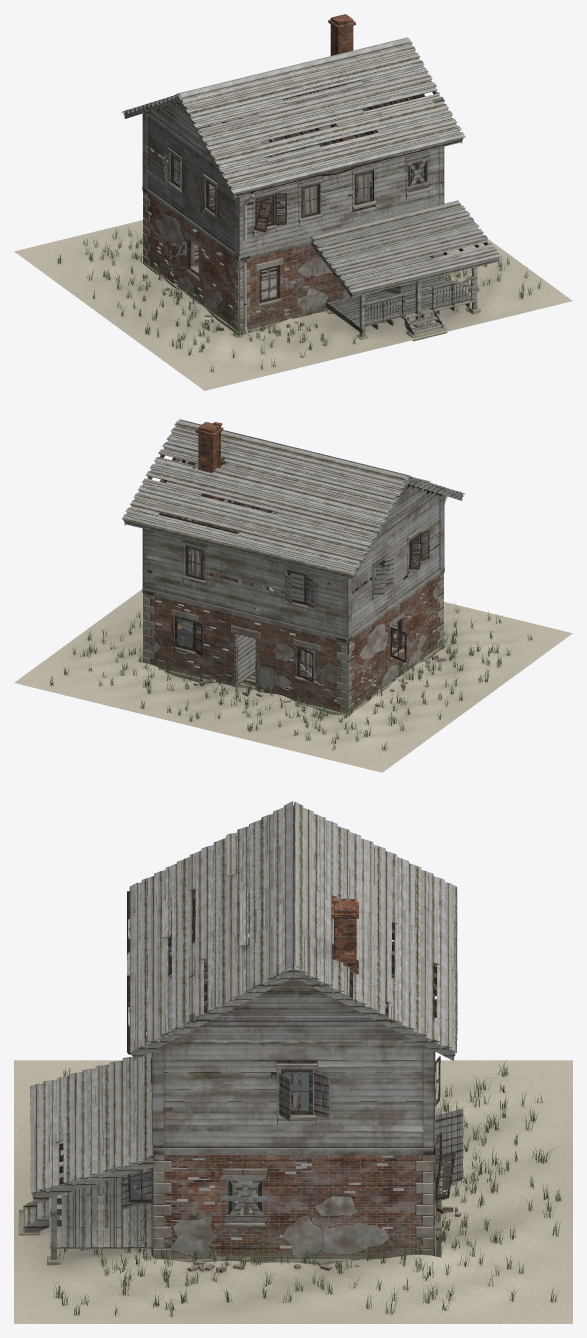
The model's file is CAB_3_ladrillo.glb.
3 renders of one model, top to bottom at view 1: azimuth 30°, elevation 25°; view 2: azimuth 150°, elevation 25°; view 3: azimuth 270°, elevation 25°, orthographic. The views are drawn at different scales.
Parts seen in each view (by area): view 1: CAB_3_ladrillo_Roof, CAB_3_ladrillo_Sand, CAB_3_ladrillo_WallsMain, CAB_3_ladrillo_WallsRest, CAB_3_ladrillo_Interior, CAB_3_ladrillo_Details, CAB_3_ladrillo_SkirtLoose; view 2: CAB_3_ladrillo_WallsRest, CAB_3_ladrillo_Sand, CAB_3_ladrillo_Roof, CAB_3_ladrillo_Interior, CAB_3_ladrillo_Details, CAB_3_ladrillo_SkirtLoose; view 3: CAB_3_ladrillo_Roof, CAB_3_ladrillo_WallsRest, CAB_3_ladrillo_Sand, CAB_3_ladrillo_Interior, CAB_3_ladrillo_Details, CAB_3_ladrillo_SkirtLoose, CAB_3_ladrillo_WallsMain.
Boxes of the visible parts, x1,y1,x2,y2 form: CAB_3_ladrillo_Roof: (121, 37, 500, 298); CAB_3_ladrillo_Sand: (14, 220, 572, 390); CAB_3_ladrillo_WallsMain: (142, 88, 480, 339); CAB_3_ladrillo_WallsRest: (142, 95, 477, 339); CAB_3_ladrillo_Interior: (143, 80, 479, 338); CAB_3_ladrillo_Details: (163, 14, 475, 341); CAB_3_ladrillo_SkirtLoose: (57, 227, 542, 371); CAB_3_ladrillo_WallsRest: (142, 462, 450, 715); CAB_3_ladrillo_Sand: (14, 589, 572, 772); CAB_3_ladrillo_Roof: (122, 419, 464, 580); CAB_3_ladrillo_Interior: (143, 457, 444, 713); CAB_3_ladrillo_Details: (170, 422, 447, 692); CAB_3_ladrillo_SkirtLoose: (47, 601, 532, 750); CAB_3_ladrillo_Roof: (30, 801, 457, 1202); CAB_3_ladrillo_WallsRest: (48, 903, 461, 1272); CAB_3_ladrillo_Sand: (14, 1060, 572, 1323); CAB_3_ladrillo_Interior: (48, 852, 455, 1272); CAB_3_ladrillo_Details: (19, 896, 463, 1235); CAB_3_ladrillo_SkirtLoose: (49, 1060, 561, 1316); CAB_3_ladrillo_WallsMain: (47, 1045, 434, 1271).
Size of the model in its own units: 14.45 by 8.75 by 12.95.
Materials: 13 (11 with a texture image).
